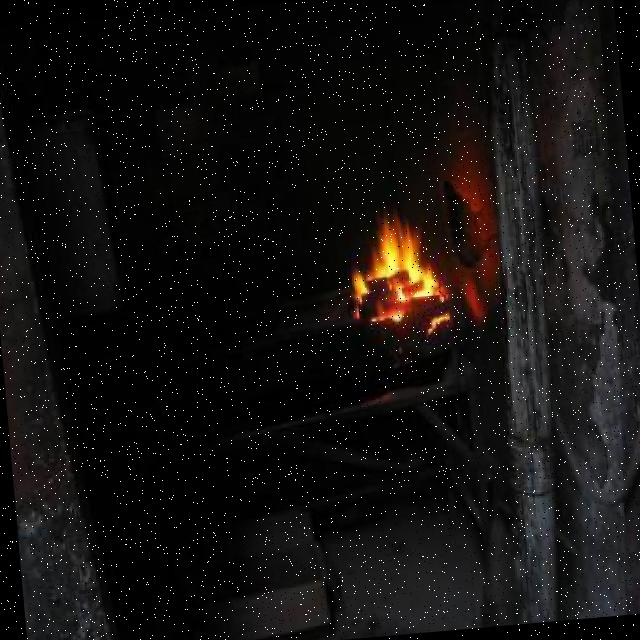fire: (302, 198, 454, 354)
